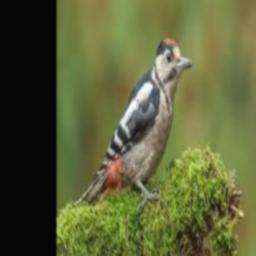Woodpecker: (75, 37, 192, 208)
